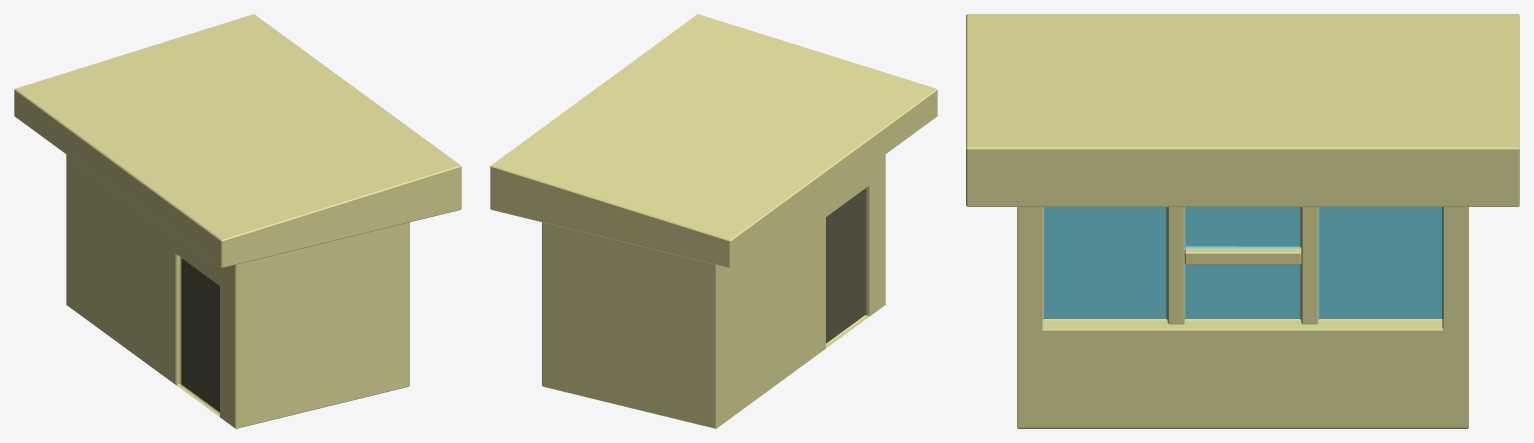
The model's file is Shop.fbx.
3 renders of one model, left to right at view 1: azimuth 30°, elevation 25°; view 2: azimuth 150°, elevation 25°; view 3: azimuth 270°, elevation 25°, orthographic. The views are drawn at different scales.
Parts seen in each view (by area): view 1: Cube; view 2: Cube; view 3: Cube.
Boxes of the visible parts, box(x1,y1,x2,y2) form: Cube: box(14, 14, 461, 428); Cube: box(490, 14, 937, 428); Cube: box(966, 14, 1519, 428).
Size of the model in its own units: 2.76 by 2.49 by 4.12.
